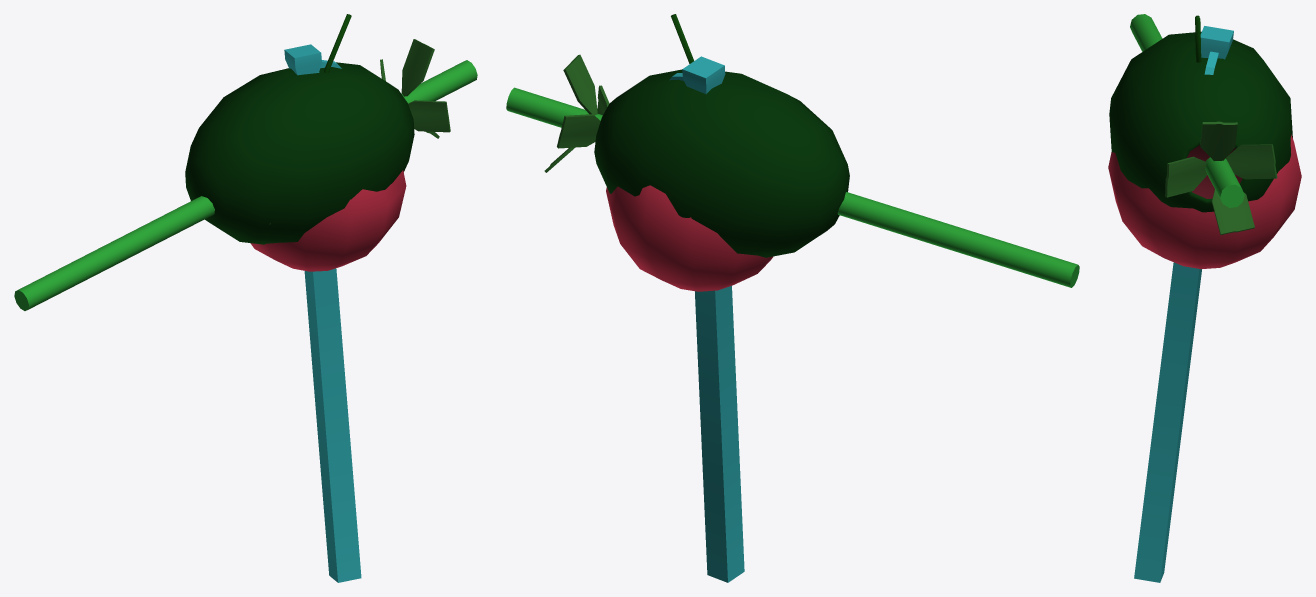
Rendered from NewModelsForPlayer.fbx.
The picture shows the model from 3 angles, left to right: view 1: azimuth 30°, elevation 25°; view 2: azimuth 150°, elevation 25°; view 3: azimuth 270°, elevation 25°; orthographic projection. The views are drawn at different scales.
Visible parts, largest first — view 1: Olive New model for use\, SwoardForplayeruse, ThymeForplayeruse, CherryForPlayeruse; view 2: Olive New model for use\, SwoardForplayeruse, ThymeForplayeruse, CherryForPlayeruse; view 3: Olive New model for use\, SwoardForplayeruse, CherryForPlayeruse, ThymeForplayeruse.
Part boxes in pixels (x1,y1,x2,y2): Olive New model for use\: (185,62,414,244); SwoardForplayeruse: (284,44,361,582); ThymeForplayeruse: (14,39,477,310); CherryForPlayeruse: (250,14,406,271); Olive New model for use\: (594,69,849,257); SwoardForplayeruse: (669,56,744,582); ThymeForplayeruse: (506,54,1079,287); CherryForPlayeruse: (606,14,773,291); Olive New model for use\: (1109,31,1292,212); SwoardForplayeruse: (1134,26,1233,582); CherryForPlayeruse: (1108,15,1301,269); ThymeForplayeruse: (1130,14,1277,235).
Size of the model in its own units: 20 by 20.88 by 6.37.
